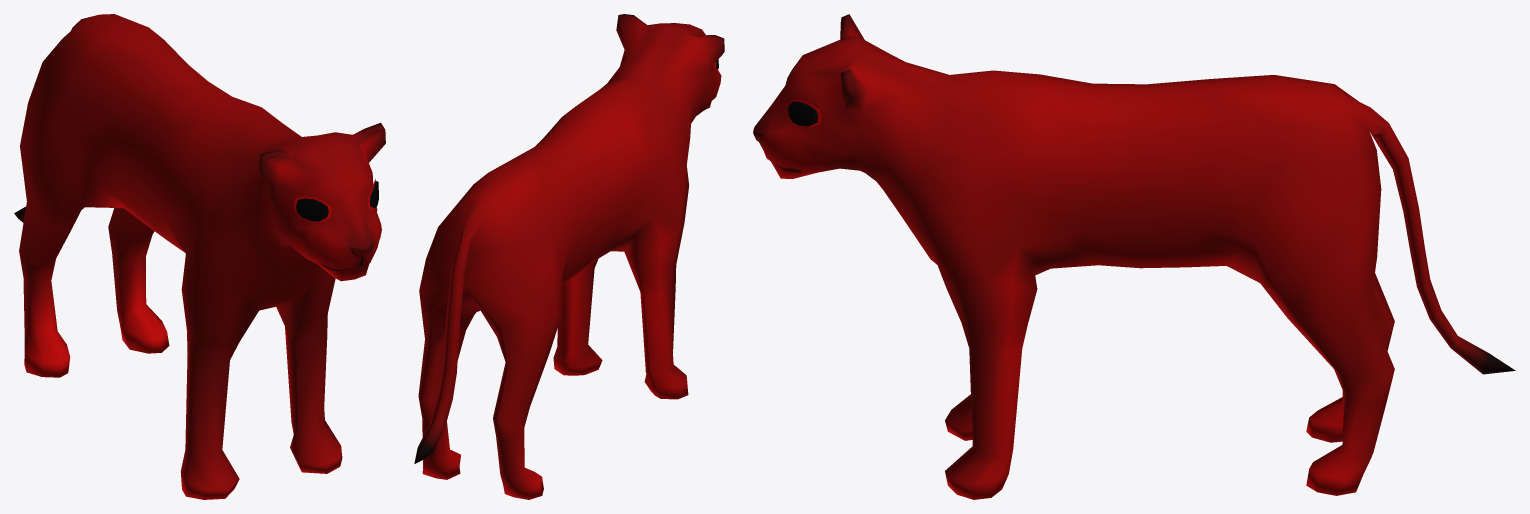
File: Lionne_model.fbx
The picture shows the model from 3 angles, left to right: view 1: azimuth 30°, elevation 25°; view 2: azimuth 150°, elevation 25°; view 3: azimuth 270°, elevation 25°; orthographic projection. The views are drawn at different scales.
Visible parts, largest first — view 1: alt605; view 2: alt605; view 3: alt605.
Part boxes in pixels (x1,y1,x2,y2): alt605: [14, 14, 385, 499]; alt605: [414, 14, 724, 499]; alt605: [753, 14, 1515, 499].
Size of the model in its own units: 1.64 by 3.82 by 6.4.
